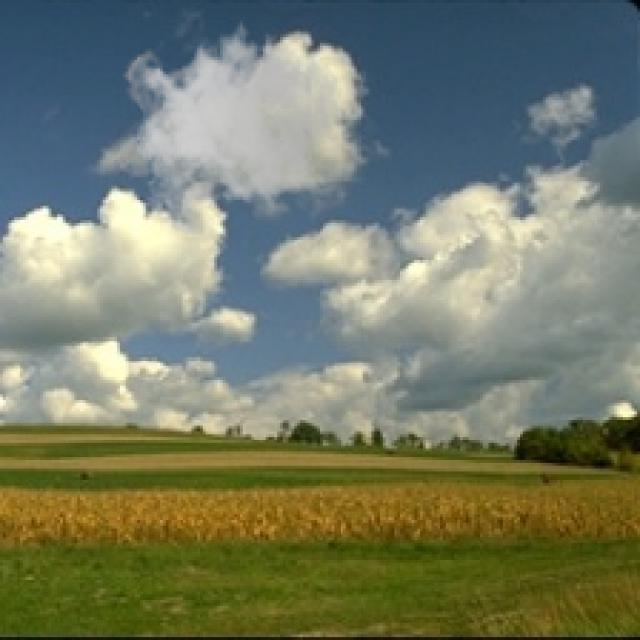Smoke: (120, 12, 343, 235)
